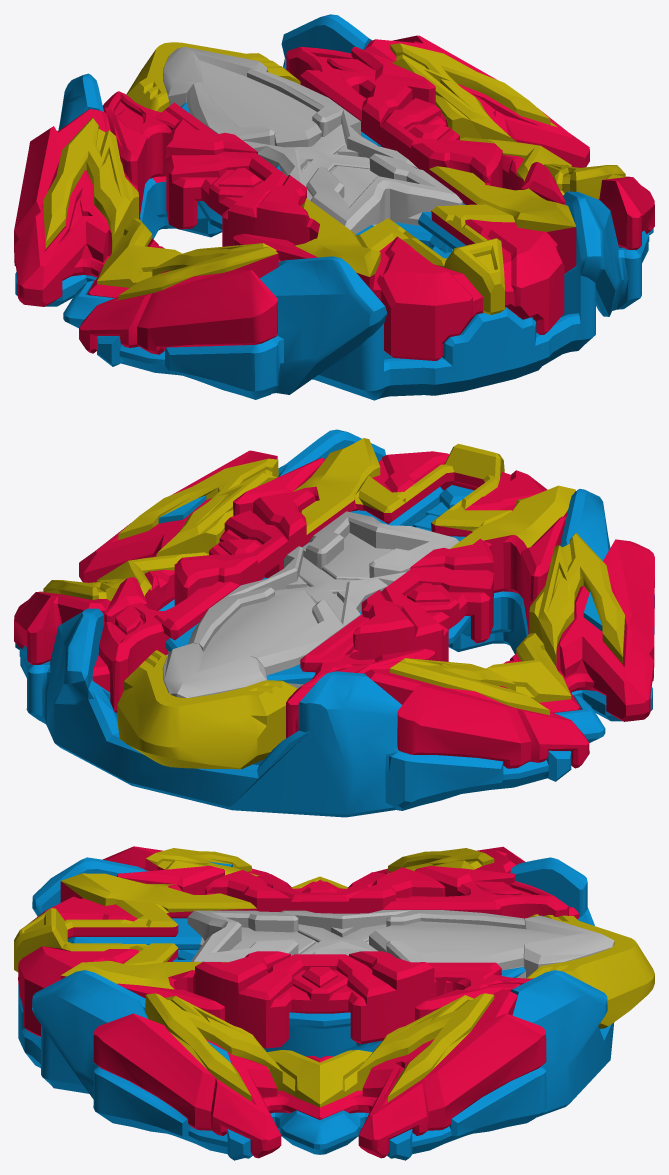
Rendered from XcaliusX4Geo.fbx.
3 views of the same model, one above another, from view 1: azimuth 30°, elevation 25°; view 2: azimuth 150°, elevation 25°; view 3: azimuth 270°, elevation 25° (orthographic). The views are drawn at different scales.
Parts seen in each view (by area): view 1: Xcalius_X4_Layer; view 2: Xcalius_X4_Layer; view 3: Xcalius_X4_Layer.
Boxes of the visible parts, <box> form: Xcalius_X4_Layer: <box>14,14,654,400</box>; Xcalius_X4_Layer: <box>14,429,654,817</box>; Xcalius_X4_Layer: <box>14,846,654,1160</box>.
Bounding box in the file's own units: 0.5499 × 0.1245 × 0.573.
Materials: 1 (1 with a texture image).
